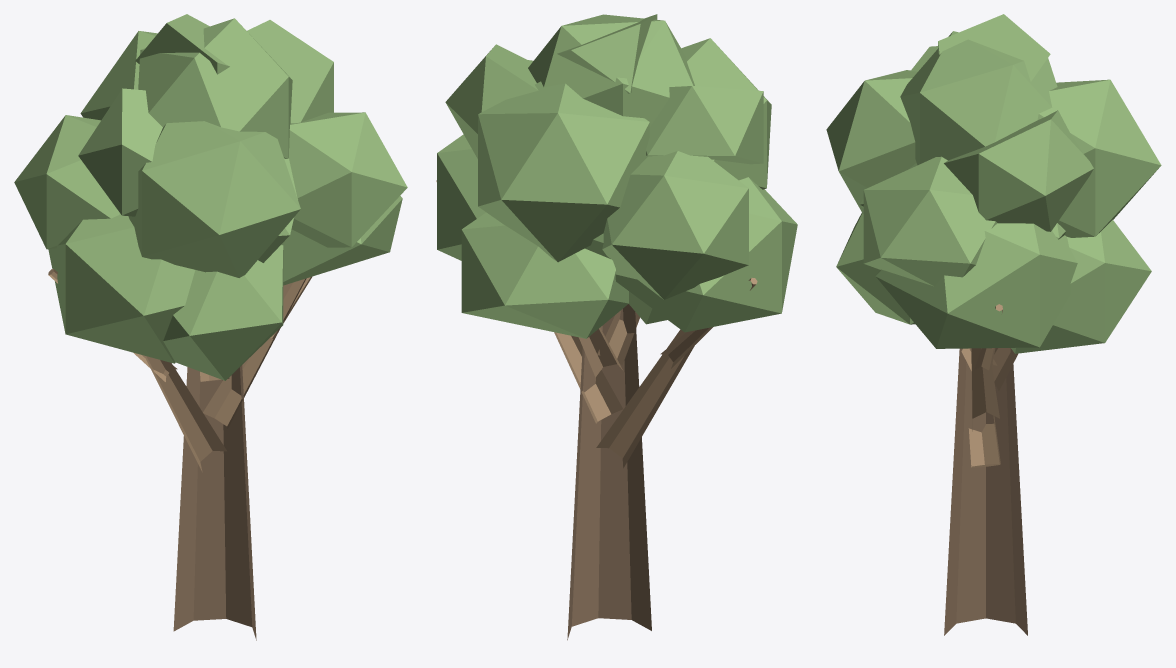
Rendered from quillay-lejos.glb.
The picture shows the model from 3 angles, left to right: view 1: azimuth 30°, elevation 25°; view 2: azimuth 150°, elevation 25°; view 3: azimuth 270°, elevation 25°; orthographic projection. The views are drawn at different scales.
Visible parts, largest first — view 1: Follaje, Tronco, Ramas; view 2: Follaje, Tronco, Ramas; view 3: Follaje, Tronco, Ramas.
Part boxes in pixels (x1,y1,x2,y2): Follaje: (14,14,407,380); Tronco: (173,365,256,640); Ramas: (48,269,312,472); Follaje: (437,14,797,338); Tronco: (567,304,651,640); Ramas: (436,180,757,468); Follaje: (826,14,1161,353); Tronco: (944,348,1027,635); Ramas: (961,304,1017,467).
Bounding box in the file's own units: 1.67 × 3.01 × 1.51.
